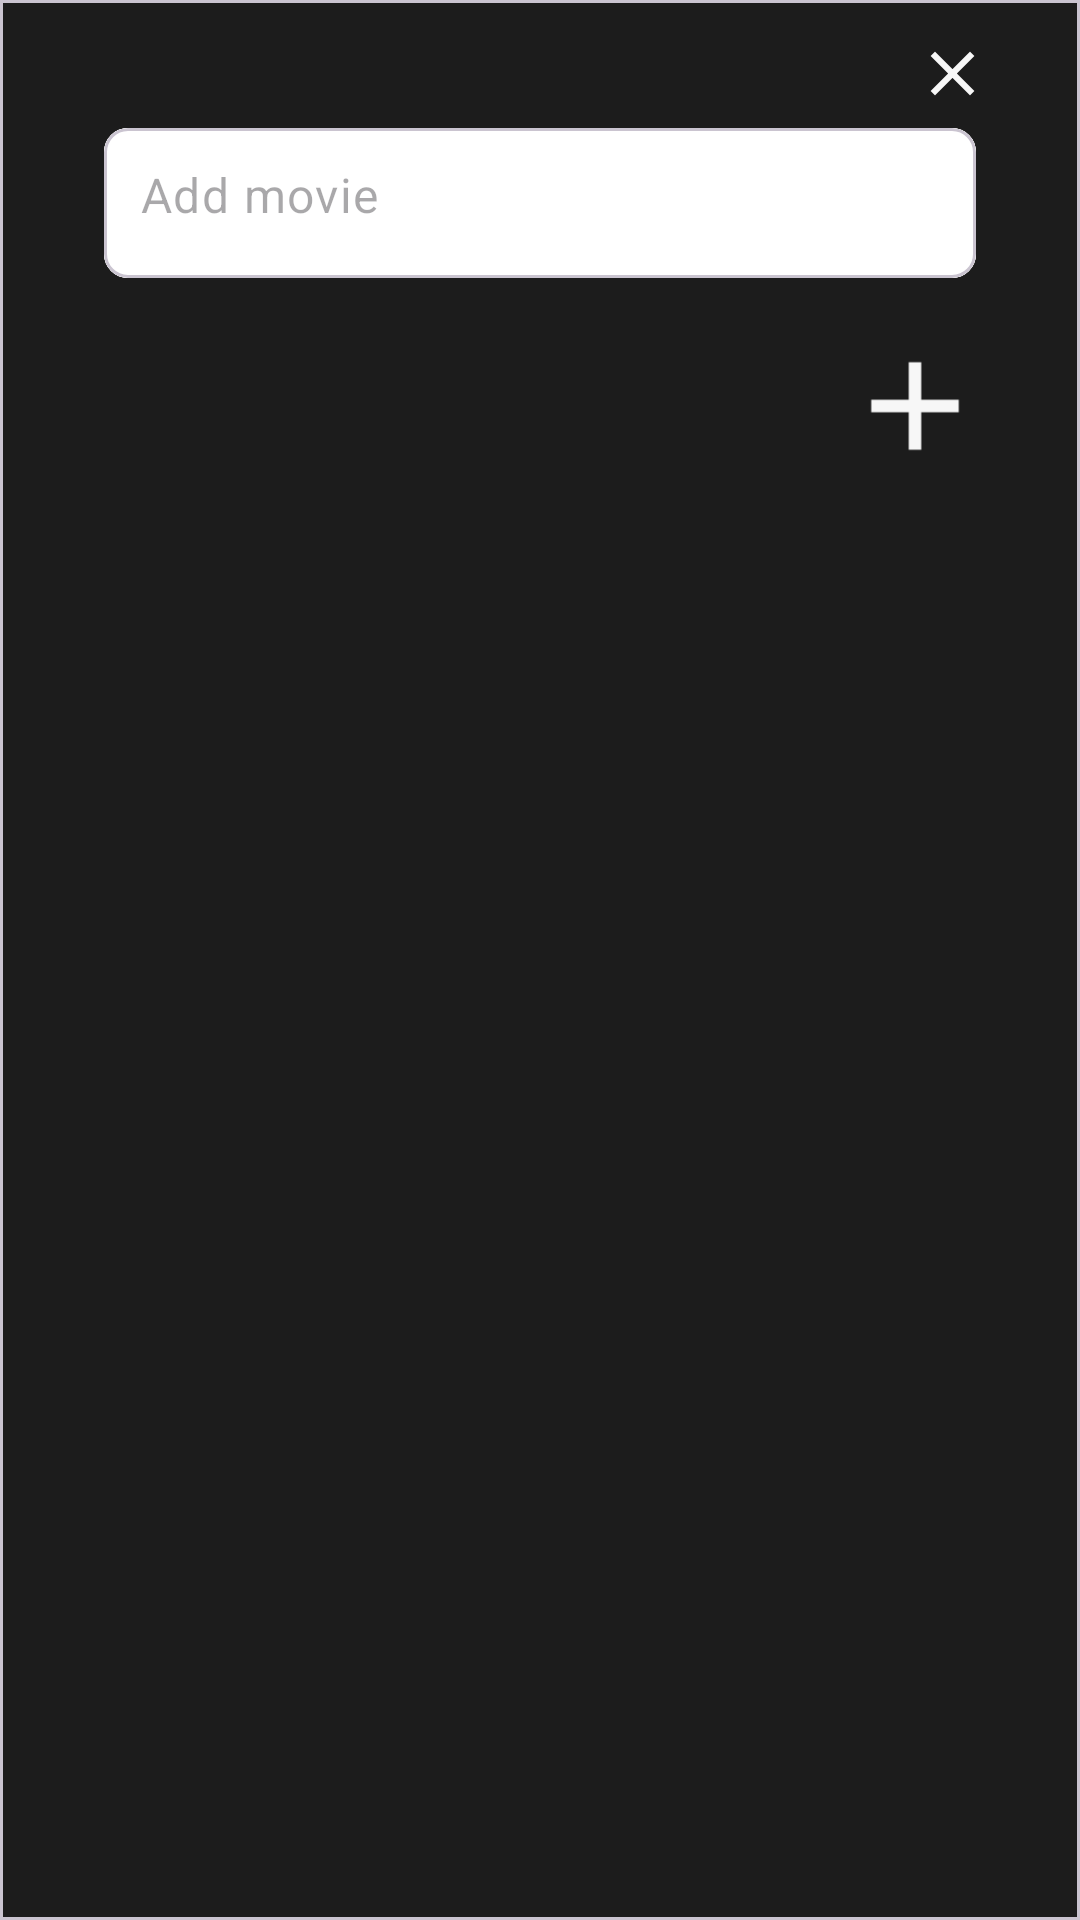

Where to tap for icons on this 1080×1920 app screen, as [x,y]:
close: [952,73]
